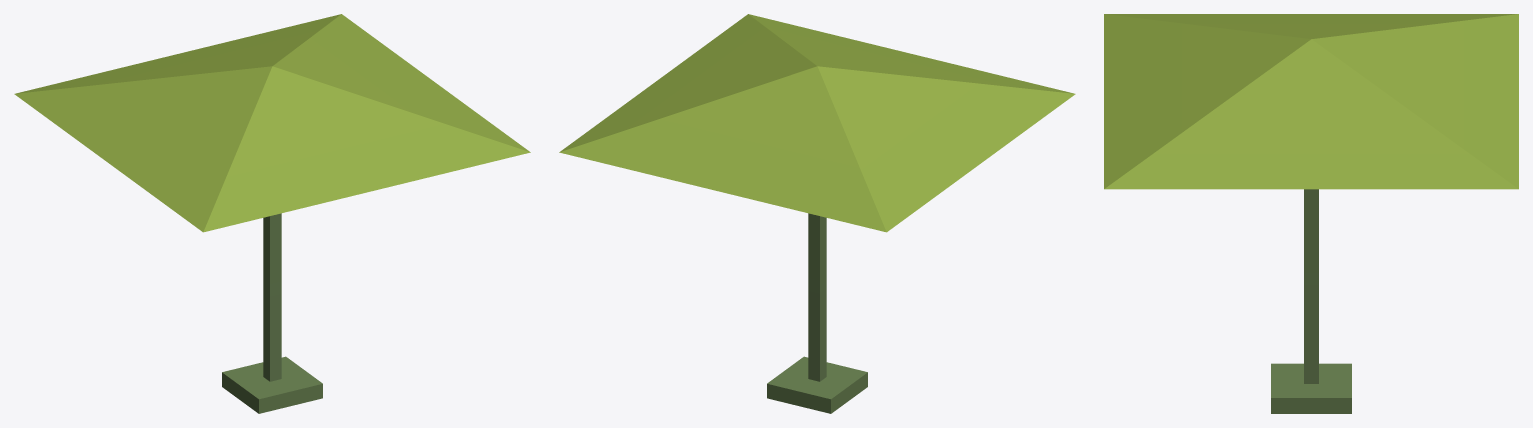
File: Umbrella_02.fbx
3 renders of one model, left to right at view 1: azimuth 30°, elevation 25°; view 2: azimuth 150°, elevation 25°; view 3: azimuth 270°, elevation 25°, orthographic. The views are drawn at different scales.
Parts seen in each view (by area): view 1: Umbrella_02; view 2: Umbrella_02; view 3: Umbrella_02.
Part boxes in pixels (box(x1,y1,x2,y2)): Umbrella_02: box(14, 14, 530, 413); Umbrella_02: box(559, 14, 1075, 413); Umbrella_02: box(1104, 14, 1518, 413).
Bounding box in the file's own units: 3 × 2.85 × 3.
